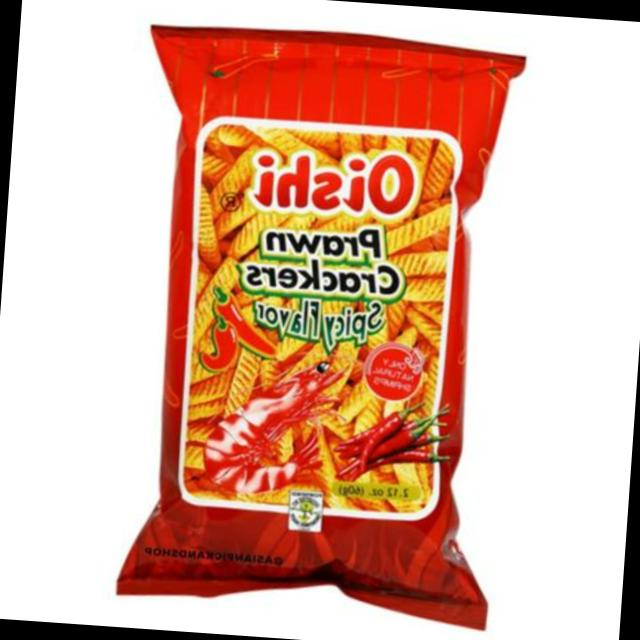KemasanPlastik: (108, 18, 530, 630)
